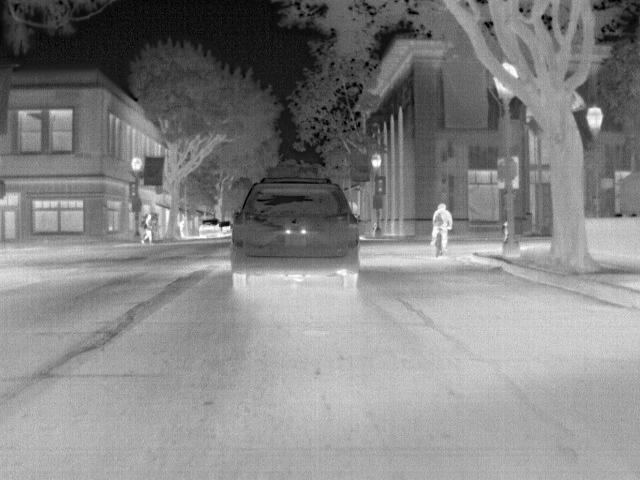car: (230, 176, 361, 289), (200, 218, 224, 237)
person: (428, 202, 454, 248), (137, 212, 154, 244)
